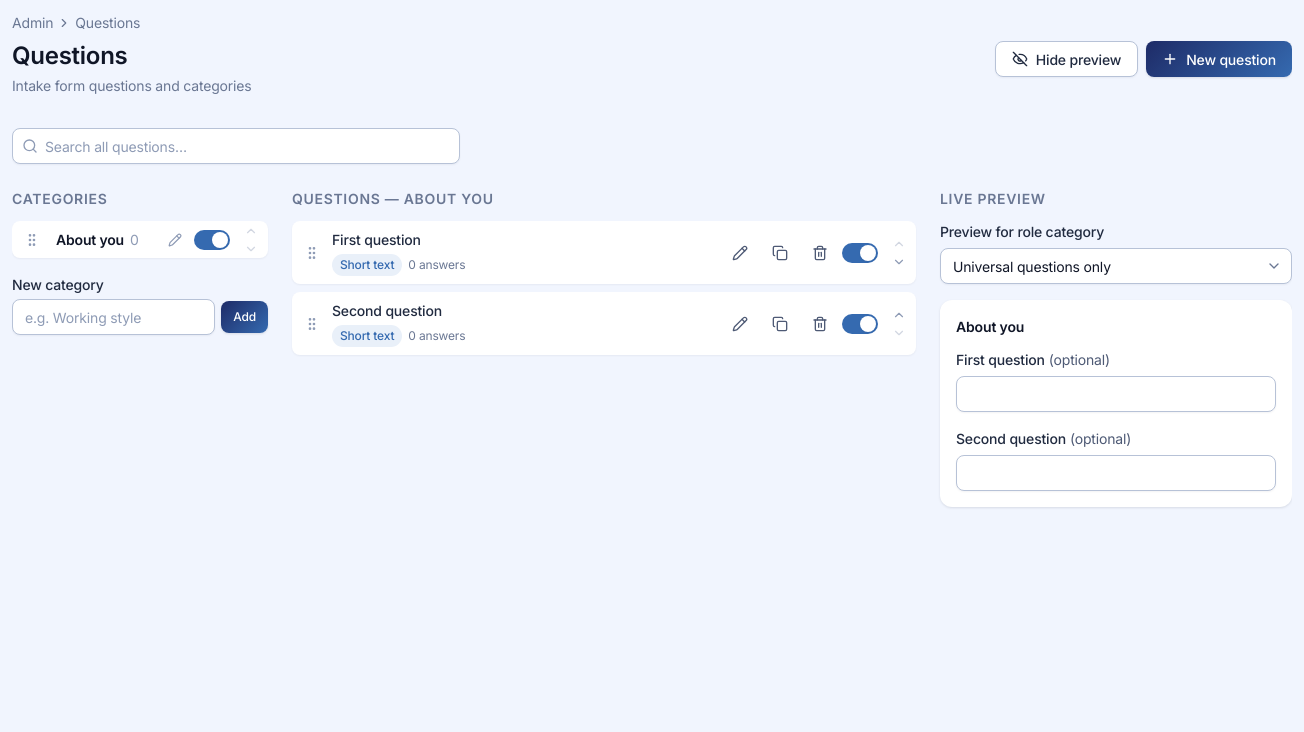
Test: optimistic reorder with rollback › rolls back and shows a toast when the API fails
Expected: the text "First question" is shown, left=332, top=229, right=421, bottom=250
Step 1. Click the button named "Move First question down" → click(899, 262), box left=890, top=252, right=908, bottom=270
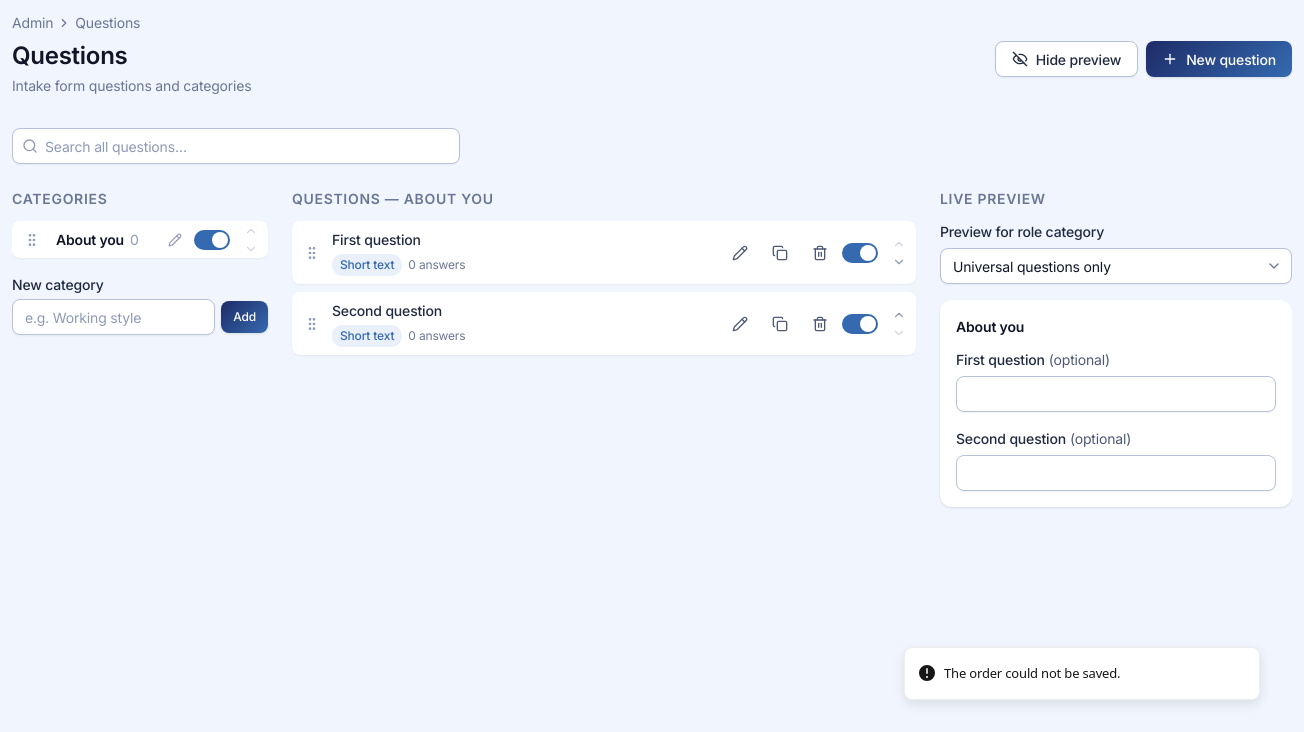
Expected: the text "The order could not be saved." is shown, left=944, top=664, right=1120, bottom=683
